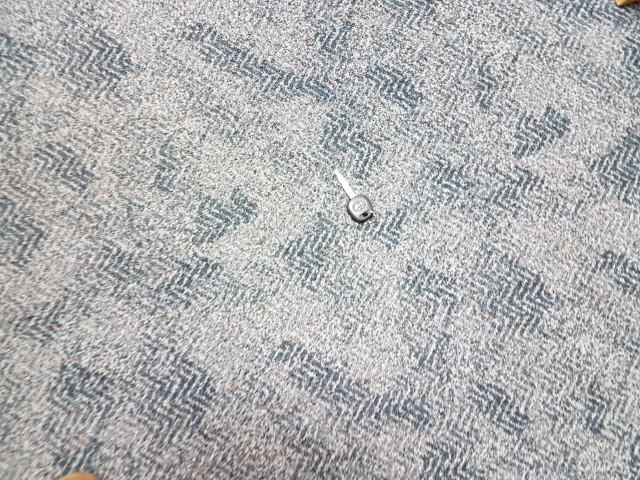key: (336, 171, 372, 221)
